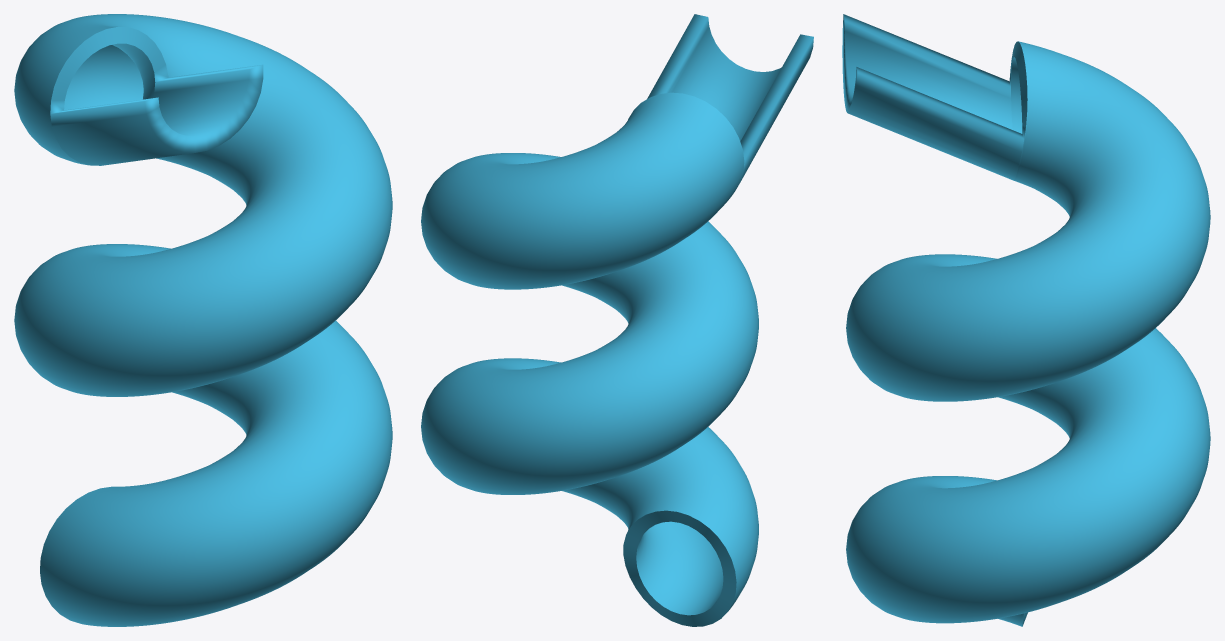
File: tunnel.glb
3 renders of one model, left to right at view 1: azimuth 30°, elevation 25°; view 2: azimuth 150°, elevation 25°; view 3: azimuth 270°, elevation 25°, orthographic. The views are drawn at different scales.
Visible parts, largest first — view 1: Circle, Circle.001; view 2: Circle, Circle.001; view 3: Circle, Circle.001.
Boxes of the visible parts, <box> form: Circle: <box>14,14,392,626</box>; Circle.001: <box>50,27,263,165</box>; Circle: <box>421,92,758,615</box>; Circle.001: <box>623,14,813,626</box>; Circle: <box>846,41,1210,626</box>; Circle.001: <box>842,14,1027,626</box>.
Bounding box in the file's own units: 82.36 × 145 × 83.18.
